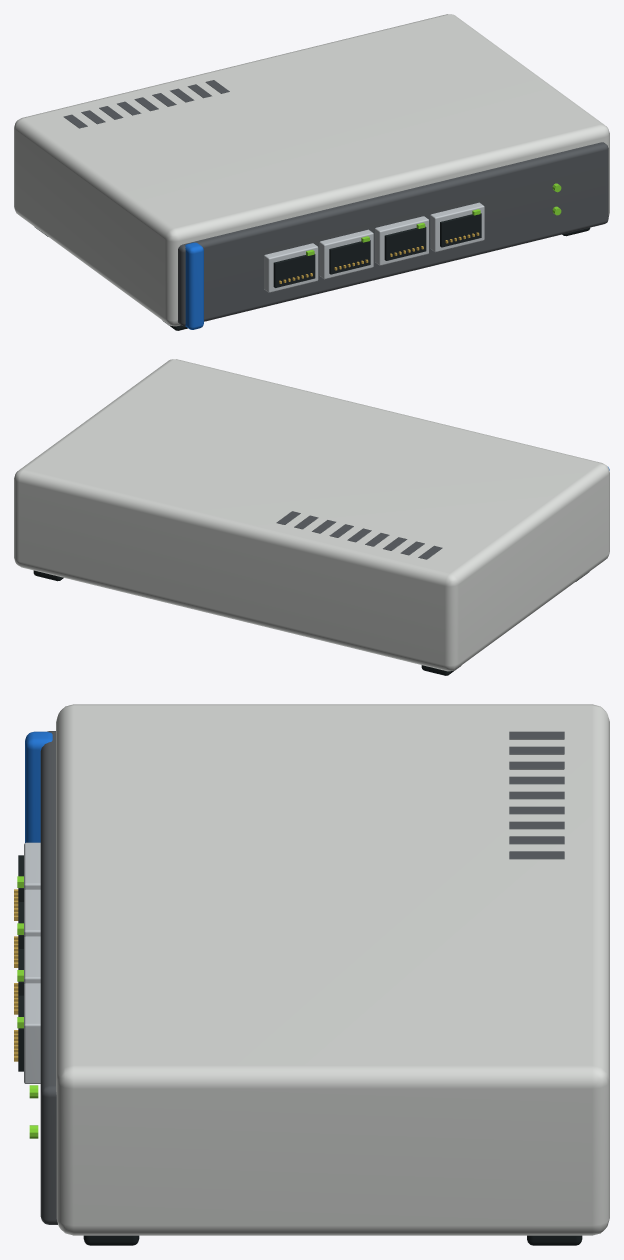
The model's file is gateway.glb.
The picture shows the model from 3 angles, top to bottom: view 1: azimuth 30°, elevation 25°; view 2: azimuth 150°, elevation 25°; view 3: azimuth 270°, elevation 25°; orthographic projection. The views are drawn at different scales.
Parts seen in each view (by area): view 1: Gateway chassis, Gateway fascia, Blue identification rail, RJ45 metal frame.001, RJ45 metal frame.003, RJ45 metal frame, RJ45 socket.002, RJ45 socket, RJ45 metal frame.002, RJ45 socket.003, RJ45 socket.001; view 2: Gateway chassis; view 3: Gateway chassis, Gateway fascia, Blue identification rail, RJ45 metal frame.003, RJ45 metal frame.001, RJ45 metal frame.002, RJ45 metal frame.
Part boxes in pixels (x1=…): Gateway chassis: x1=14, y1=14, x2=609, y2=326; Gateway fascia: x1=178, y1=142, x2=608, y2=326; Blue identification rail: x1=185, y1=242, x2=203, y2=329; RJ45 metal frame.001: x1=319, y1=229, x2=373, y2=279; RJ45 metal frame.003: x1=430, y1=202, x2=484, y2=252; RJ45 metal frame: x1=264, y1=243, x2=318, y2=292; RJ45 socket.002: x1=384, y1=226, x2=426, y2=260; RJ45 socket: x1=273, y1=254, x2=315, y2=287; RJ45 metal frame.002: x1=375, y1=216, x2=428, y2=265; RJ45 socket.003: x1=440, y1=213, x2=481, y2=247; RJ45 socket.001: x1=329, y1=240, x2=370, y2=274; Gateway chassis: x1=14, y1=359, x2=609, y2=671; Gateway chassis: x1=56, y1=704, x2=609, y2=1235; Gateway fascia: x1=40, y1=731, x2=57, y2=1224; Blue identification rail: x1=25, y1=731, x2=52, y2=842; RJ45 metal frame.003: x1=24, y1=983, x2=40, y2=1083; RJ45 metal frame.001: x1=24, y1=889, x2=40, y2=937; RJ45 metal frame.002: x1=24, y1=936, x2=40, y2=984; RJ45 metal frame: x1=24, y1=842, x2=40, y2=890.
Bounding box in the file's own units: 0.4 × 0.0933 × 0.269.
